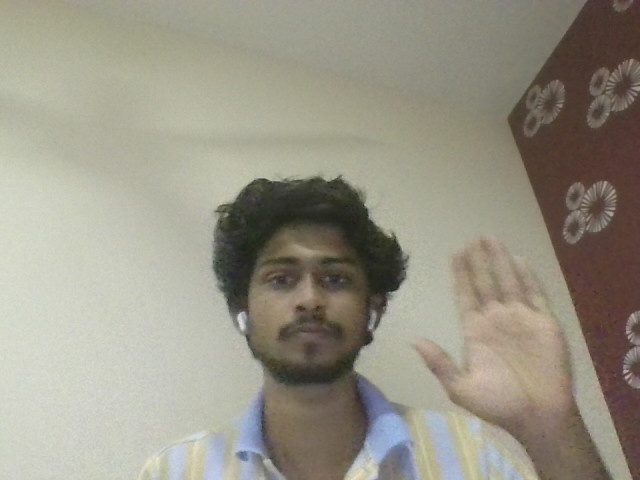hello: (408, 233, 592, 412)
